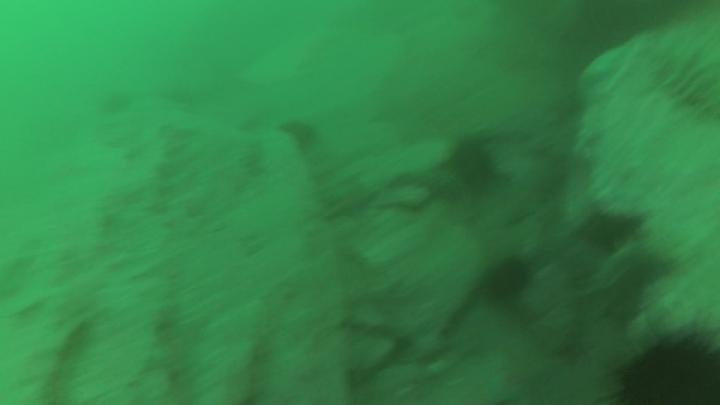echinus: (604, 321, 720, 405), (446, 136, 508, 194), (486, 248, 535, 306), (280, 117, 316, 153)
